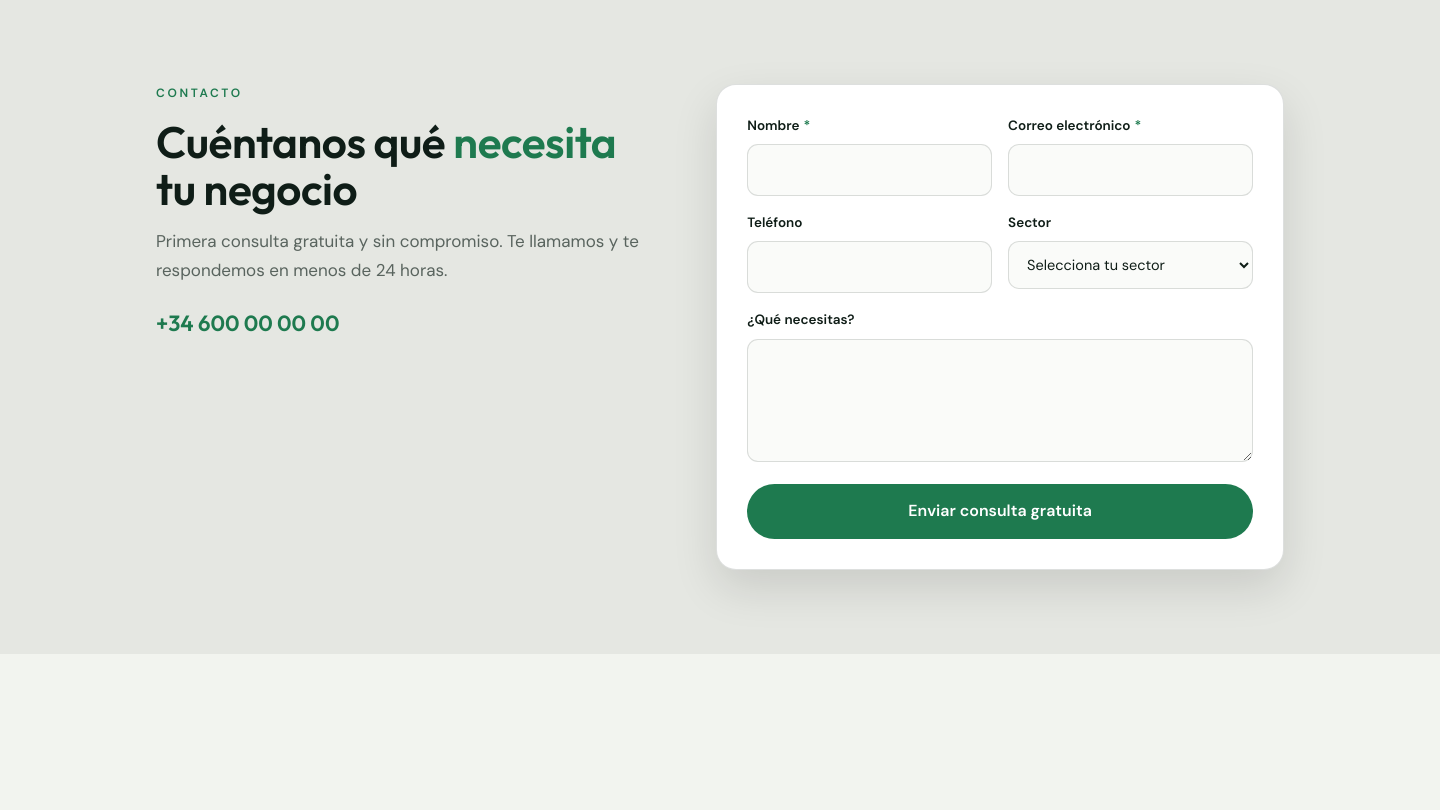
Test: Contacto (comportamiento) › @s6 tras el éxito, Nombre, Correo y ¿Qué necesitas? quedan vacíos
The width and height of the screenshot is (1440, 810).
Type "Ana" into the field labelled "Nombre*".
click(870, 170); type("Ana")  # box [747,144,992,196]
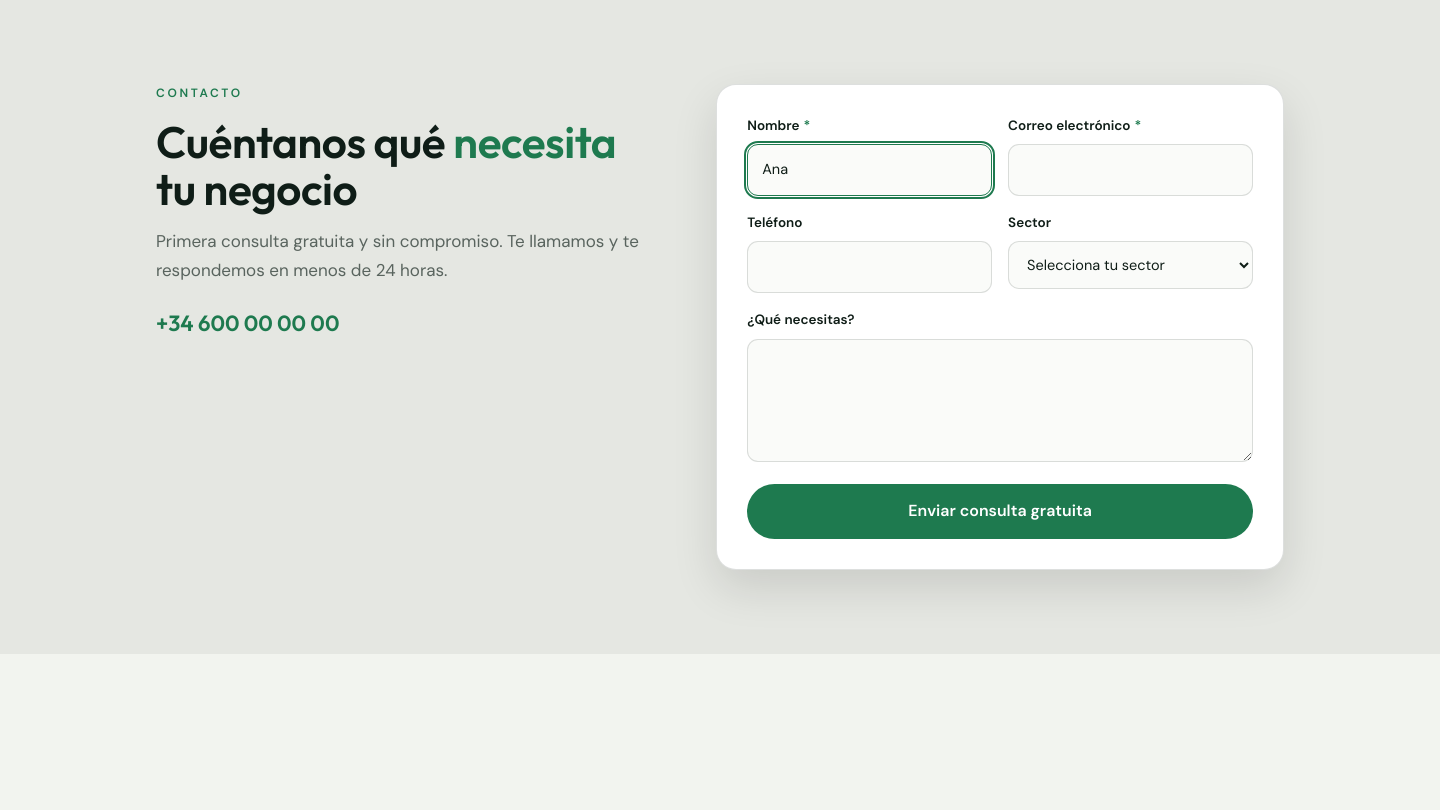
Type "ana@cenit.dev" into the field labelled "Correo electrónico*".
click(1131, 170); type("ana@cenit.dev")  # box [1008,144,1253,196]
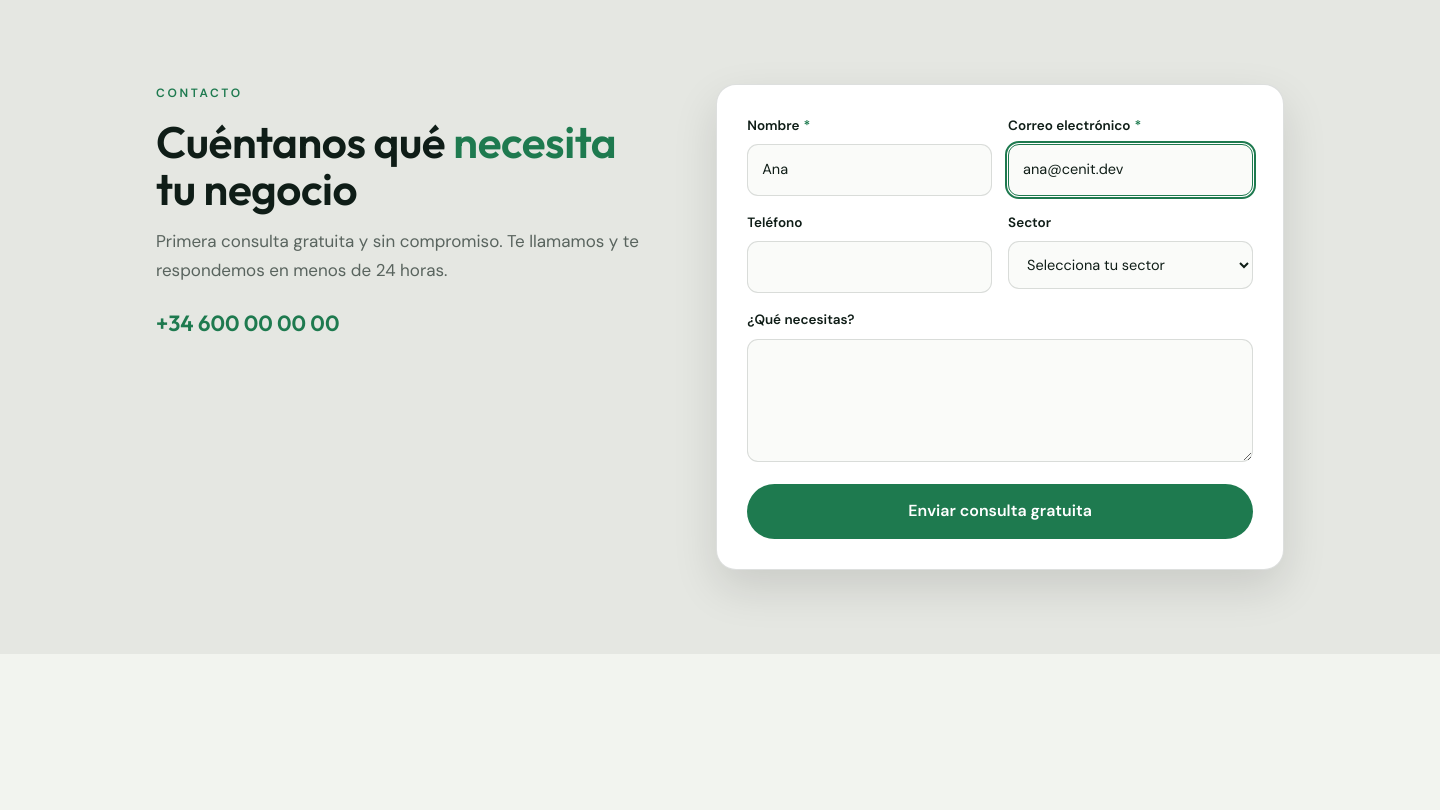
Type "Quiero una web" into the text box labelled "¿Qué necesitas?".
click(1000, 400); type("Quiero una web")  # box [747,339,1253,462]
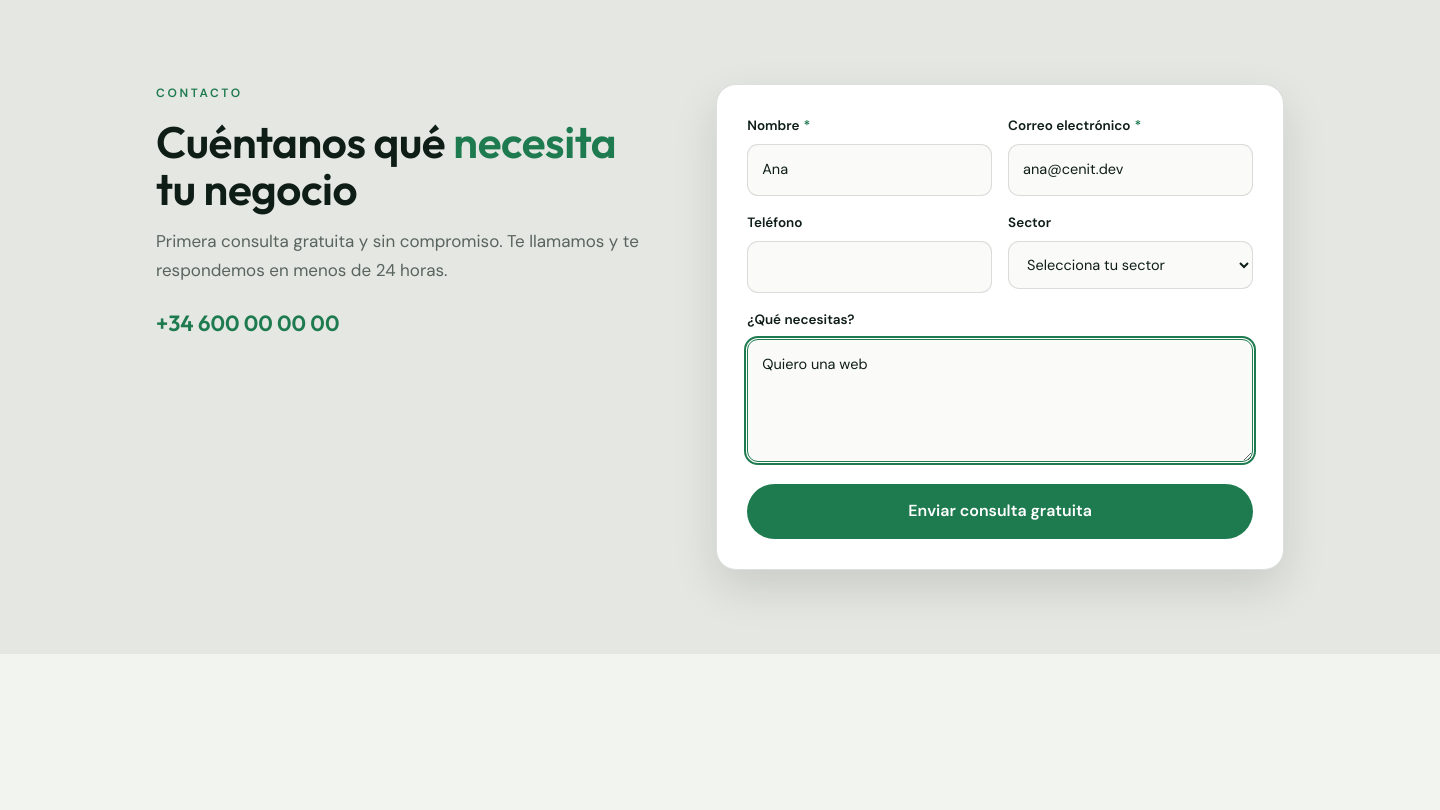
Click the button "Enviar consulta gratuita".
click(1000, 512)  # box [747,484,1253,539]
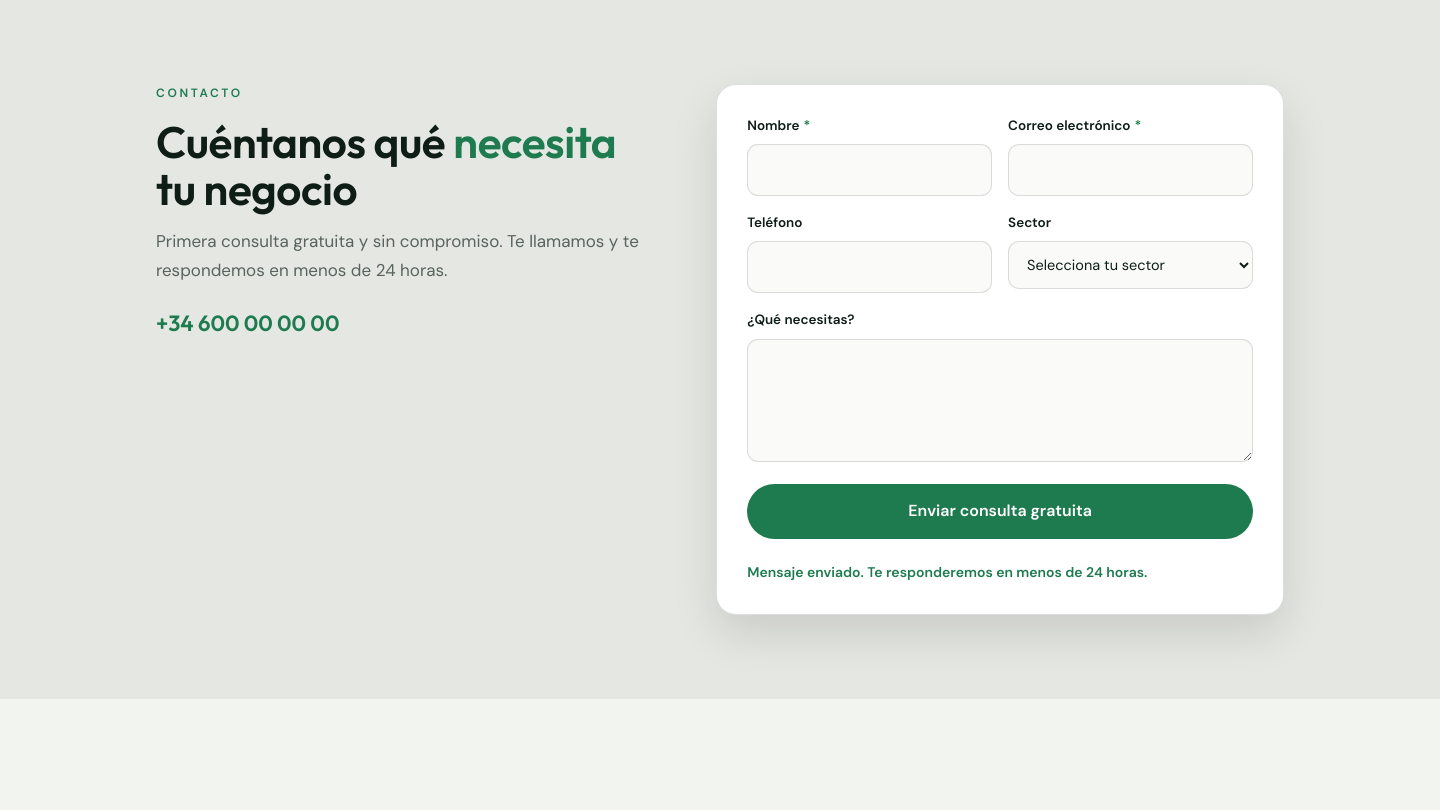
Expected: the message "Mensaje enviado. Te responderemos en menos de 24 horas." is shown, [747,563,1147,581]
Expected: the field labelled "Nombre*" is empty, [747,144,992,196]
Expected: the field labelled "Correo electrónico*" is empty, [1008,144,1253,196]
